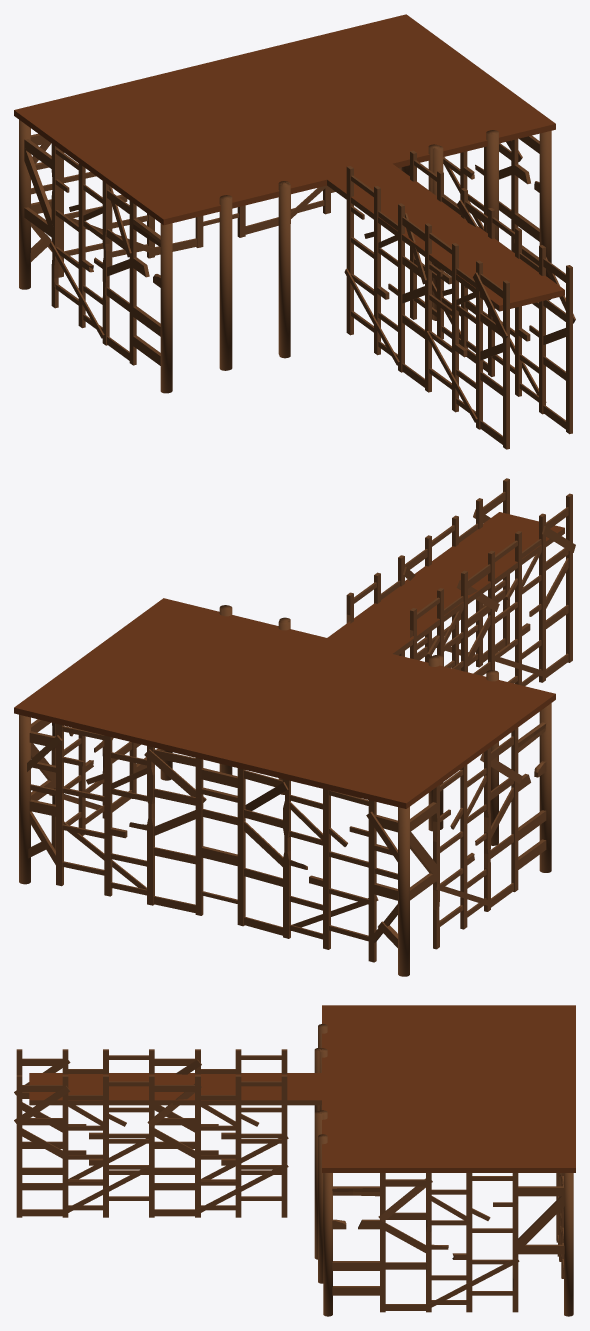
Rendered from chao.fbx.
The picture shows the model from 3 angles, top to bottom: view 1: azimuth 30°, elevation 25°; view 2: azimuth 150°, elevation 25°; view 3: azimuth 270°, elevation 25°; orthographic projection. The views are drawn at different scales.
Parts seen in each view (by area): view 1: Cube; view 2: Cube; view 3: Cube.
Boxes of the visible parts, x1,y1,x2,y2 form: Cube: (14,14,575,449); Cube: (14,478,575,976); Cube: (14,1005,575,1316).
Bounding box in the file's own units: 53289 × 26389 × 77755.
